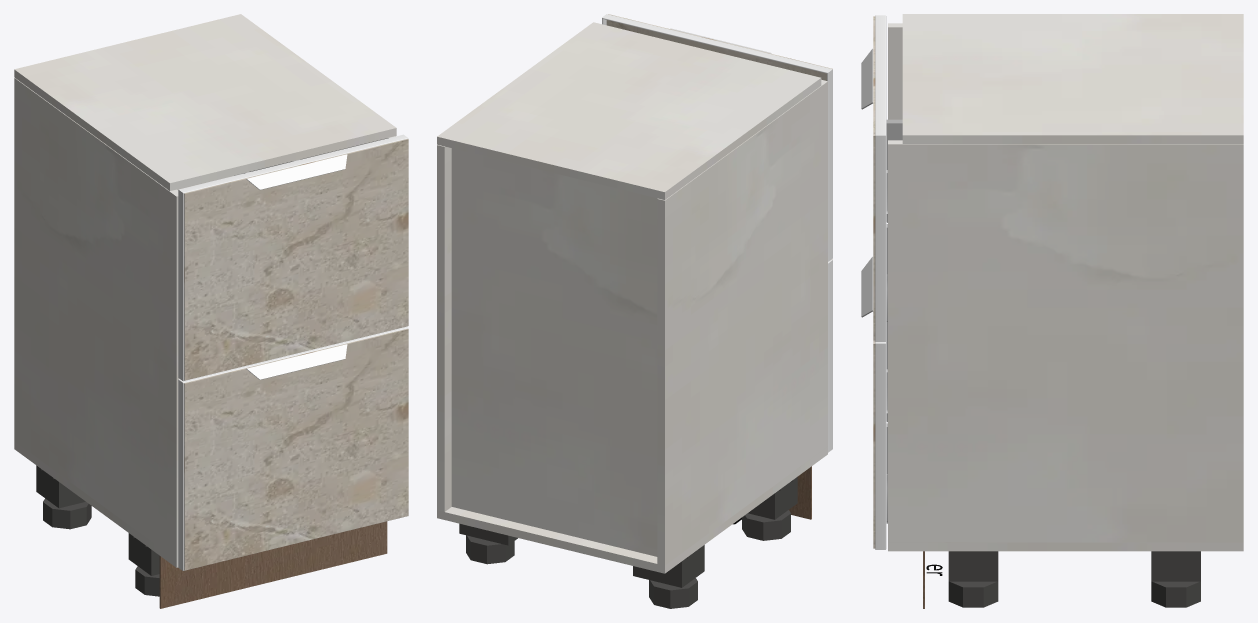
3 renders of one model, left to right at view 1: azimuth 30°, elevation 25°; view 2: azimuth 150°, elevation 25°; view 3: azimuth 270°, elevation 25°, orthographic. The views are drawn at different scales.
Size of what is drawn, in the model's own units: 0.45 by 0.82 by 0.6.
7 materials, 3 textured.
